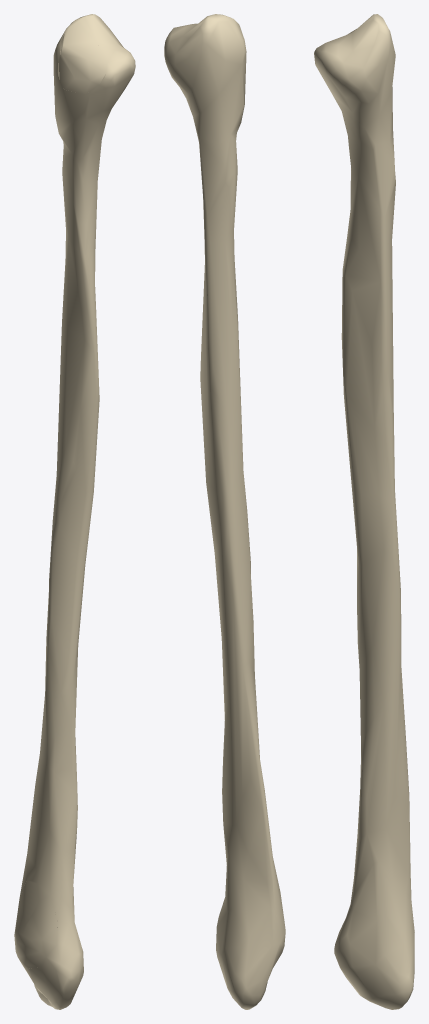
File: esqueleto-fibula-l.glb
3 views of the same model, side by side, from view 1: azimuth 30°, elevation 25°; view 2: azimuth 210°, elevation 25°; view 3: azimuth 270°, elevation 25° (orthographic).
Parts seen in each view (by area): view 1: Fibula.l; view 2: Fibula.l; view 3: Fibula.l.
Boxes of the visible parts, x1,y1,x2,y2 form: Fibula.l: [14, 14, 135, 1009]; Fibula.l: [164, 14, 285, 1009]; Fibula.l: [314, 14, 414, 1009].
Bounding box in the file's own units: 0.0361 × 0.3625 × 0.0329.
